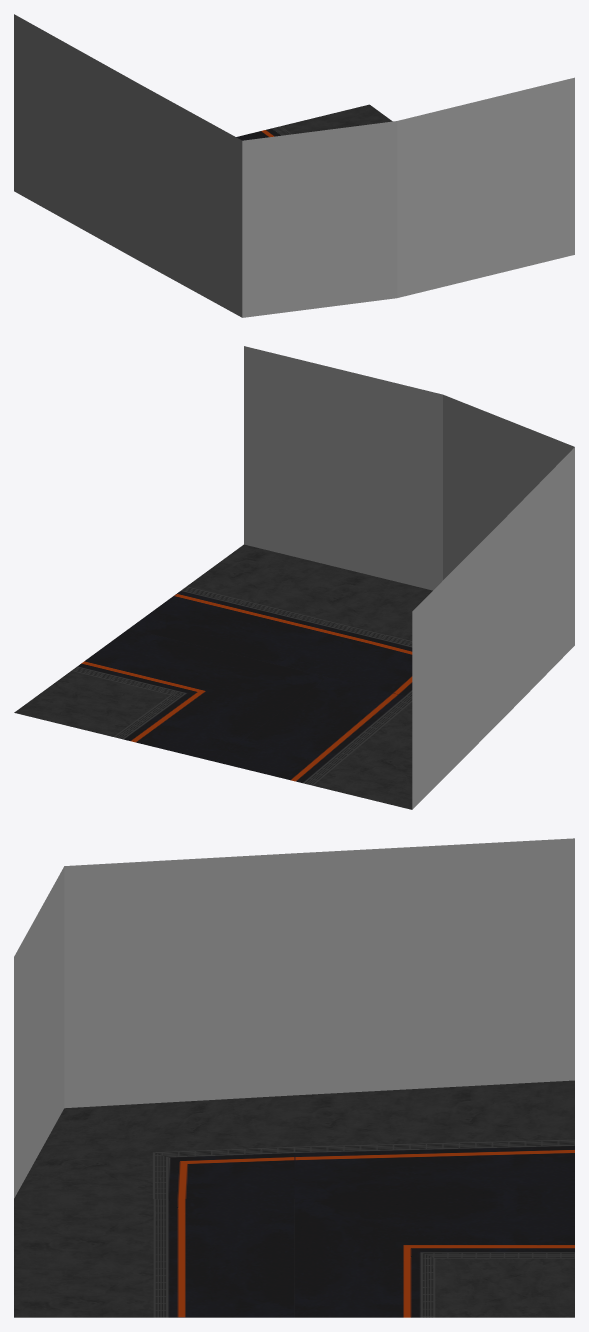
Rendered from mesh_Floor_wall_corner.fbx.
The picture shows the model from 3 angles, top to bottom: view 1: azimuth 30°, elevation 25°; view 2: azimuth 150°, elevation 25°; view 3: azimuth 270°, elevation 25°; orthographic projection. The views are drawn at different scales.
Parts seen in each view (by area): view 1: Floor_wall_corner; view 2: Floor_wall_corner; view 3: Floor_wall_corner.
Boxes of the visible parts, bbox=[...] form: Floor_wall_corner: bbox=[14, 14, 574, 317]; Floor_wall_corner: bbox=[14, 346, 574, 809]; Floor_wall_corner: bbox=[14, 838, 574, 1317].
Size of the model in its own units: 2100 by 1000 by 2100.
